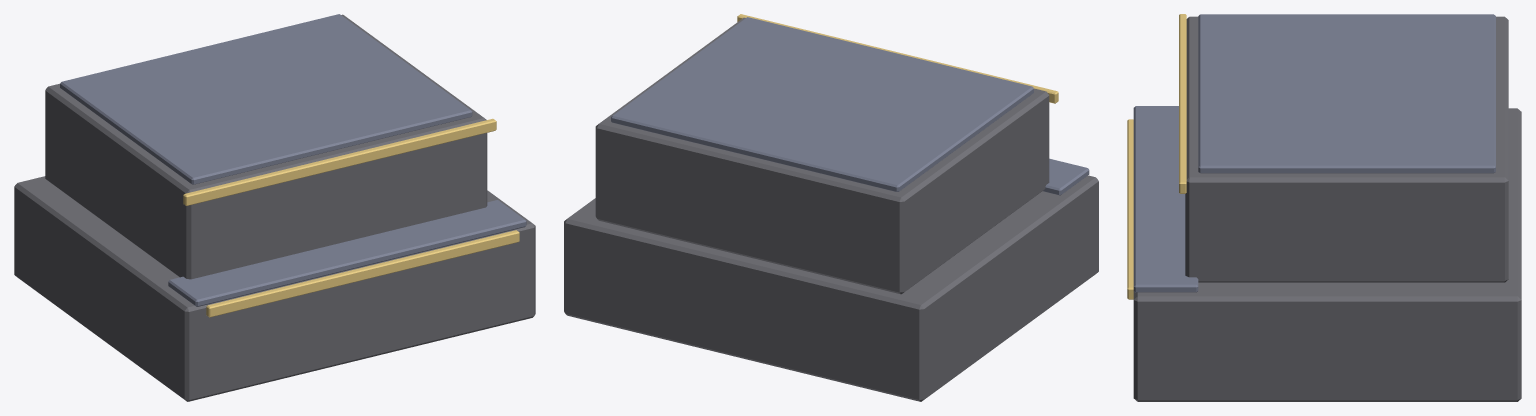
The model's file is orchestra-and-band-instruments-conductor-podium-6f48e7ac__39310.glb.
3 renders of one model, left to right at view 1: azimuth 30°, elevation 25°; view 2: azimuth 150°, elevation 25°; view 3: azimuth 270°, elevation 25°, orthographic. The views are drawn at different scales.
Parts seen in each view (by area): view 1: conductor-podium; view 2: conductor-podium; view 3: conductor-podium.
Boxes of the visible parts, x1,y1,x2,y2 form: conductor-podium: (14,14,535,401); conductor-podium: (564,14,1098,401); conductor-podium: (1127,14,1521,401).
Bounding box in the file's own units: 0.7 × 0.372 × 0.61.
